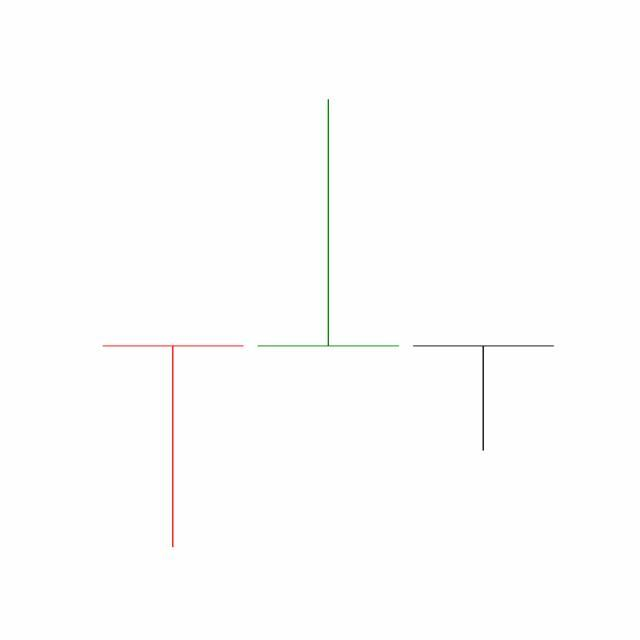Gravestone Doji: (250, 97, 407, 350)
